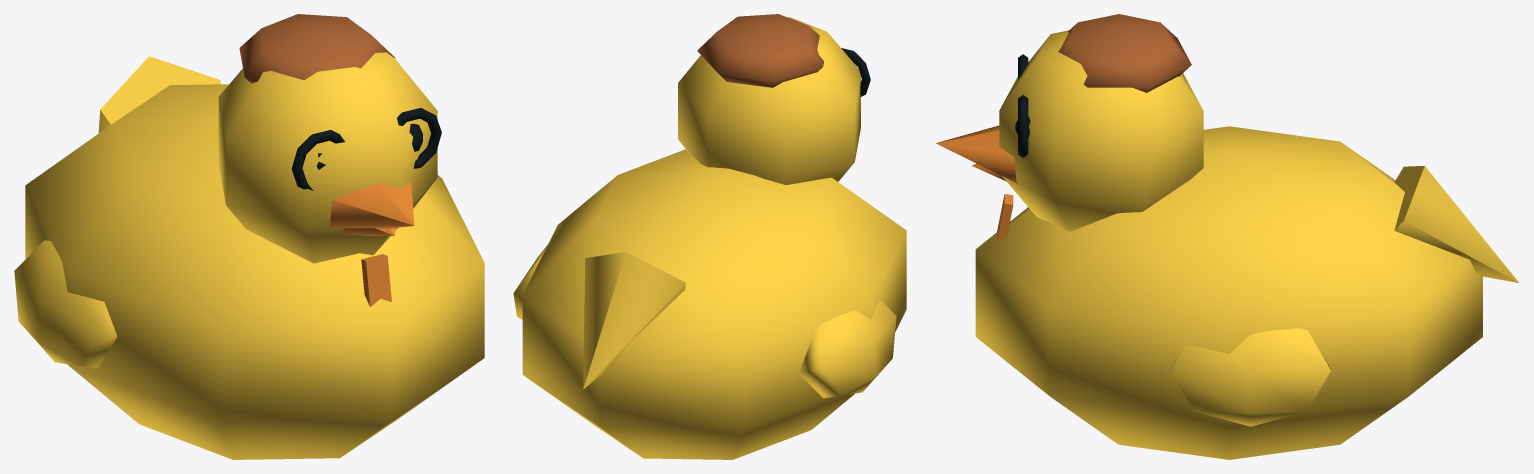
File: duck-professor.glb
3 renders of one model, left to right at view 1: azimuth 30°, elevation 25°; view 2: azimuth 150°, elevation 25°; view 3: azimuth 270°, elevation 25°, orthographic. The views are drawn at different scales.
Visible parts, largest first — view 1: CouncilDuck_professor; view 2: CouncilDuck_professor; view 3: CouncilDuck_professor.
Part boxes in pixels (x1=…): CouncilDuck_professor: x1=14, y1=14, x2=484, y2=459; CouncilDuck_professor: x1=513, y1=14, x2=906, y2=459; CouncilDuck_professor: x1=936, y1=14, x2=1518, y2=459.
Bounding box in the file's own units: 2.46 × 2.53 × 3.29.
